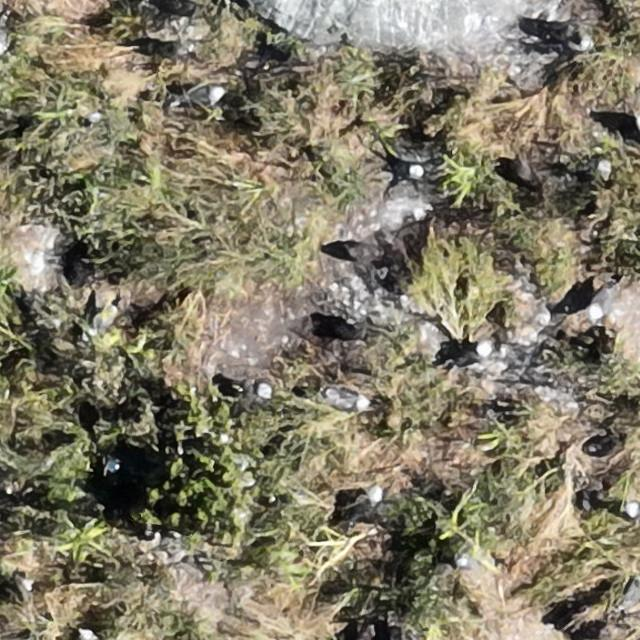umineko: (176, 84, 224, 108), (589, 282, 619, 320), (451, 341, 491, 369), (353, 487, 381, 522), (326, 391, 367, 411), (98, 295, 120, 331), (395, 159, 427, 180), (625, 502, 639, 521), (0, 21, 8, 53), (80, 628, 98, 639)
